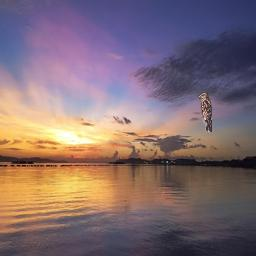Sparrow: (199, 92, 212, 132)
